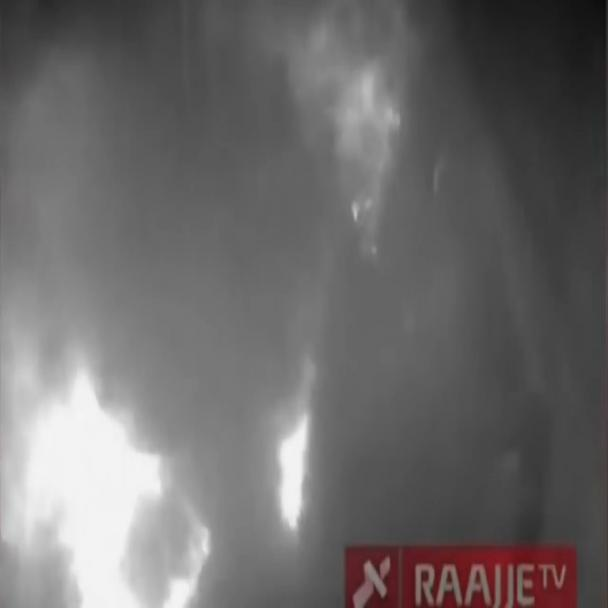Fire: (0, 31, 481, 607)
